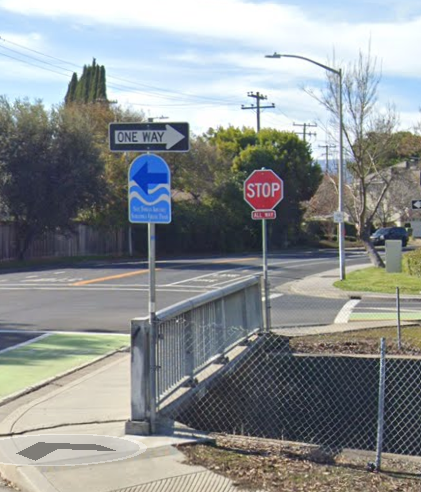stop_sign: (244, 170, 285, 208)
